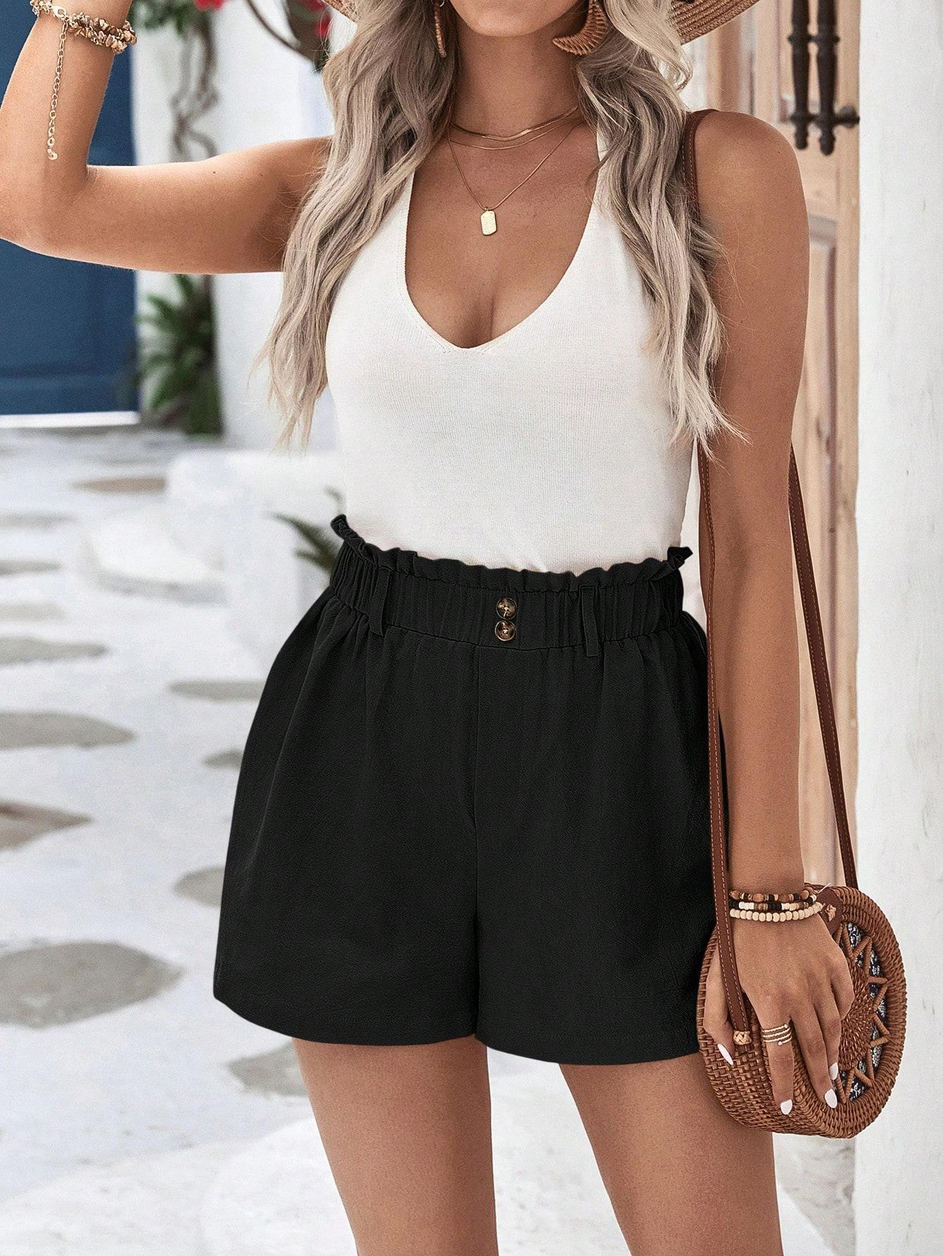Shorts: (190, 507, 754, 1073)
vest: (306, 131, 702, 578)
